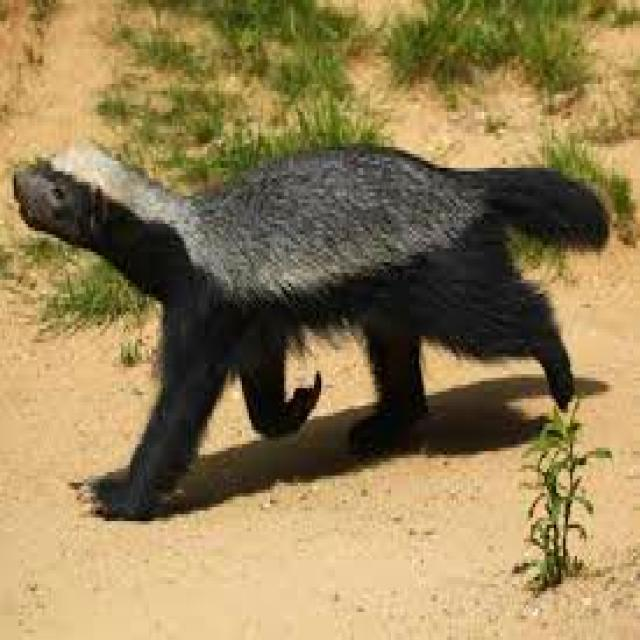badger: (12, 147, 610, 514)
